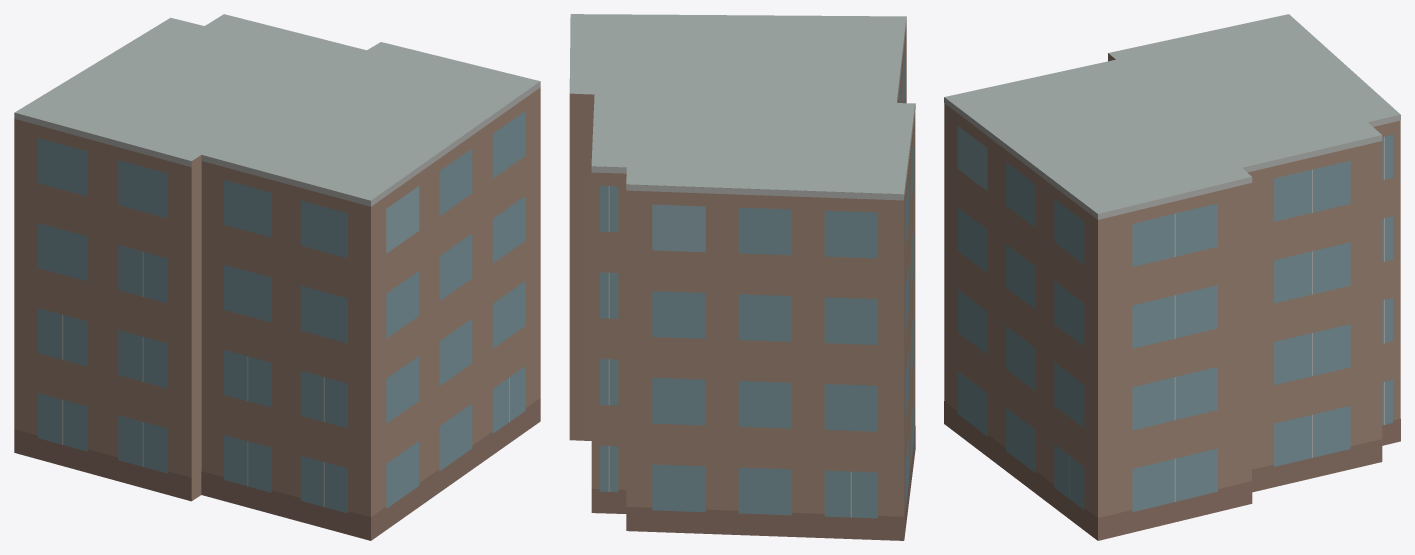
Rendered from survey-upis-32666614.glb.
3 views of the same model, side by side, from view 1: azimuth 30°, elevation 25°; view 2: azimuth 150°, elevation 25°; view 3: azimuth 270°, elevation 25° (orthographic). The views are drawn at different scales.
Parts seen in each view (by area): view 1: survey-upis-32666614.tmp; view 2: survey-upis-32666614.tmp; view 3: survey-upis-32666614.tmp.
Part boxes in pixels (x1,y1,x2,y2): survey-upis-32666614.tmp: [14, 14, 540, 540]; survey-upis-32666614.tmp: [569, 14, 915, 540]; survey-upis-32666614.tmp: [944, 14, 1400, 540].
Size of the model in its own units: 17.87 by 13.6 by 17.23.
